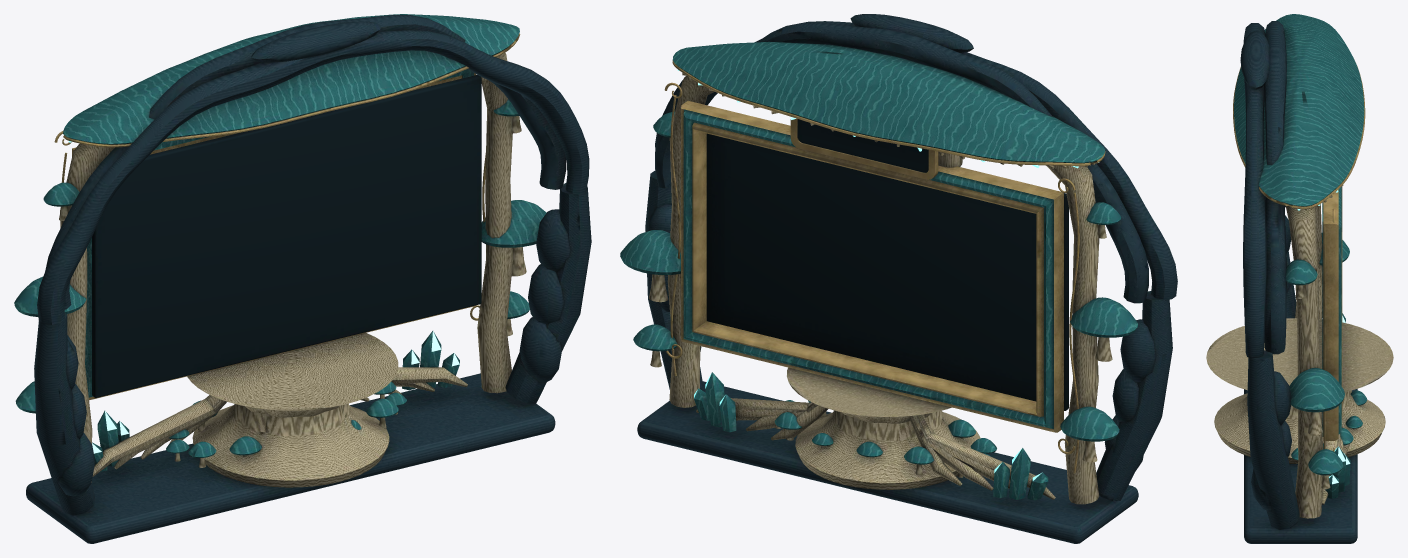
The picture shows the model from 3 angles, left to right: view 1: azimuth 30°, elevation 25°; view 2: azimuth 150°, elevation 25°; view 3: azimuth 270°, elevation 25°; orthographic projection. The views are drawn at different scales.
Visible parts, largest first — view 1: Even_dark_inset, Cavern_slate, Ivory_fungal_fibres, Turquoise_mushroom_skin, Antique_mycelium_gold; view 2: Even_dark_inset, Turquoise_mushroom_skin, Cavern_slate, Ivory_fungal_fibres, Antique_mycelium_gold; view 3: Cavern_slate, Turquoise_mushroom_skin, Ivory_fungal_fibres, Antique_mycelium_gold.
Part boxes in pixels (x1,y1,x2,y2): Even_dark_inset: (92, 75, 481, 397); Cavern_slate: (26, 15, 591, 543); Ivory_fungal_fibres: (59, 52, 526, 487); Turquoise_mushroom_skin: (14, 14, 546, 471); Antique_mycelium_gold: (54, 33, 520, 400); Even_dark_inset: (706, 119, 1068, 410); Turquoise_mushroom_skin: (620, 41, 1137, 500); Cavern_slate: (637, 14, 1177, 543); Ivory_fungal_fibres: (649, 73, 1112, 504); Antique_mycelium_gold: (664, 60, 1105, 473); Cavern_slate: (1240, 21, 1357, 543); Turquoise_mushroom_skin: (1234, 14, 1367, 498); Ivory_fungal_fibres: (1206, 178, 1393, 518); Antique_mycelium_gold: (1233, 59, 1365, 451).
Size of the model in its own units: 12.72 by 10 by 4.28.
Materials: 6 (5 with a texture image).
